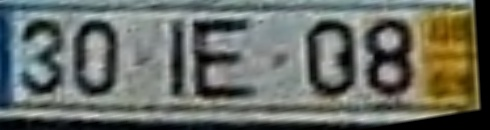0: (301, 16, 360, 99), (70, 17, 125, 100)
3: (16, 16, 70, 99)
8: (359, 16, 418, 100)
E: (191, 16, 260, 103)
I: (166, 17, 189, 100)
